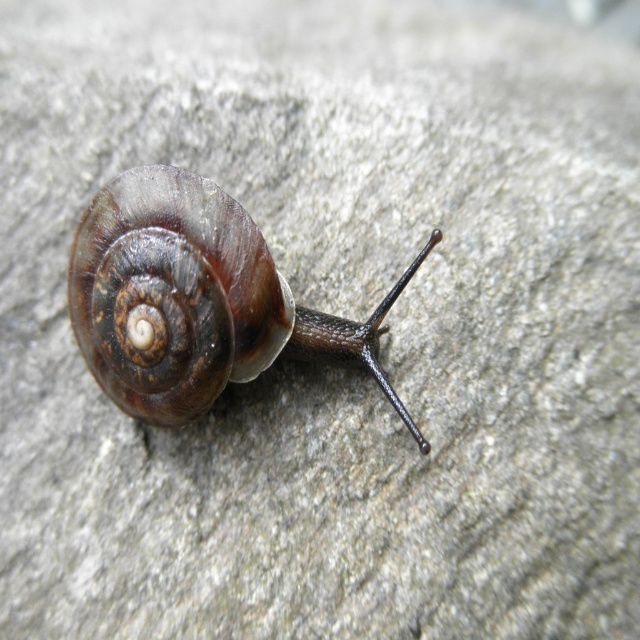Snail: (64, 163, 440, 461)
